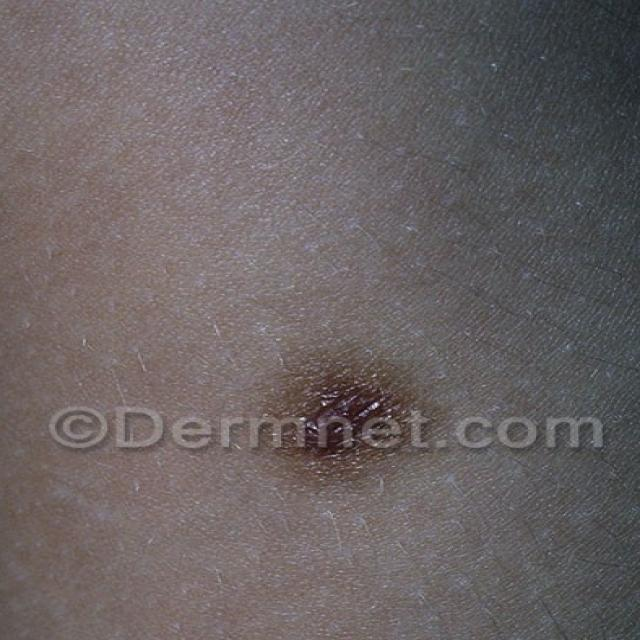Vascular Tumors: (264, 346, 433, 510)
